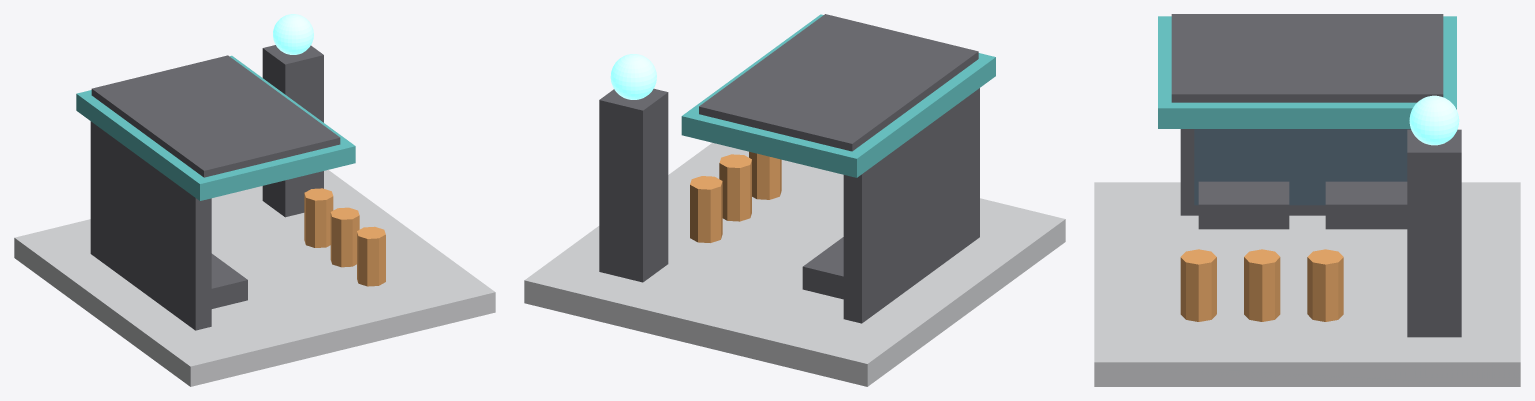
The model's file is transit_plaza.glb.
3 views of the same model, side by side, from view 1: azimuth 30°, elevation 25°; view 2: azimuth 150°, elevation 25°; view 3: azimuth 270°, elevation 25° (orthographic). The views are drawn at different scales.
Visible parts, largest first — view 1: platform, solar_panel, back_wall, canopy, totem_body, scooter_0, scooter_2, scooter_1, bench_a, Totem; view 2: platform, solar_panel, back_wall, totem_body, canopy, scooter_2, scooter_1, bench_b, Totem, scooter_0; view 3: platform, solar_panel, shelter_glass, totem_body, canopy, bench_a, bench_b, scooter_1, scooter_2, scooter_0, Totem, back_wall.
Boxes of the visible parts, left/top/right/bottom form: platform: left=14, top=170, right=495, bottom=386; solar_panel: left=91, top=55, right=340, bottom=177; back_wall: left=90, top=121, right=211, bottom=330; canopy: left=76, top=55, right=355, bottom=200; totem_body: left=262, top=45, right=323, bottom=217; scooter_0: left=357, top=226, right=385, bottom=286; scooter_2: left=304, top=188, right=333, bottom=247; scooter_1: left=330, top=207, right=359, bottom=267; bench_a: left=211, top=253, right=247, bottom=308; Totem: left=273, top=14, right=313, bottom=54; platform: left=524, top=143, right=1065, bottom=386; solar_panel: left=699, top=14, right=978, bottom=151; back_wall: left=843, top=88, right=979, bottom=323; totem_body: left=599, top=88, right=668, bottom=282; canopy: left=681, top=14, right=995, bottom=177; scooter_2: left=690, top=176, right=722, bottom=242; scooter_1: left=719, top=154, right=751, bottom=221; bench_b: left=802, top=237, right=843, bottom=299; Totem: left=610, top=54, right=656, bottom=99; scooter_0: left=749, top=151, right=781, bottom=199; platform: left=1094, top=182, right=1520, bottom=386; solar_panel: left=1171, top=14, right=1443, bottom=102; shelter_glass: left=1194, top=129, right=1410, bottom=205; totem_body: left=1407, top=129, right=1461, bottom=337; canopy: left=1158, top=16, right=1456, bottom=128; bench_a: left=1198, top=181, right=1289, bottom=229; bench_b: left=1325, top=181, right=1407, bottom=229; scooter_1: left=1244, top=249, right=1280, bottom=321; scooter_2: left=1307, top=249, right=1343, bottom=321; scooter_0: left=1180, top=249, right=1216, bottom=321; Totem: left=1409, top=95, right=1459, bottom=145; back_wall: left=1180, top=129, right=1325, bottom=215.
Size of the model in its own units: 0.94 by 0.615 by 0.94.
